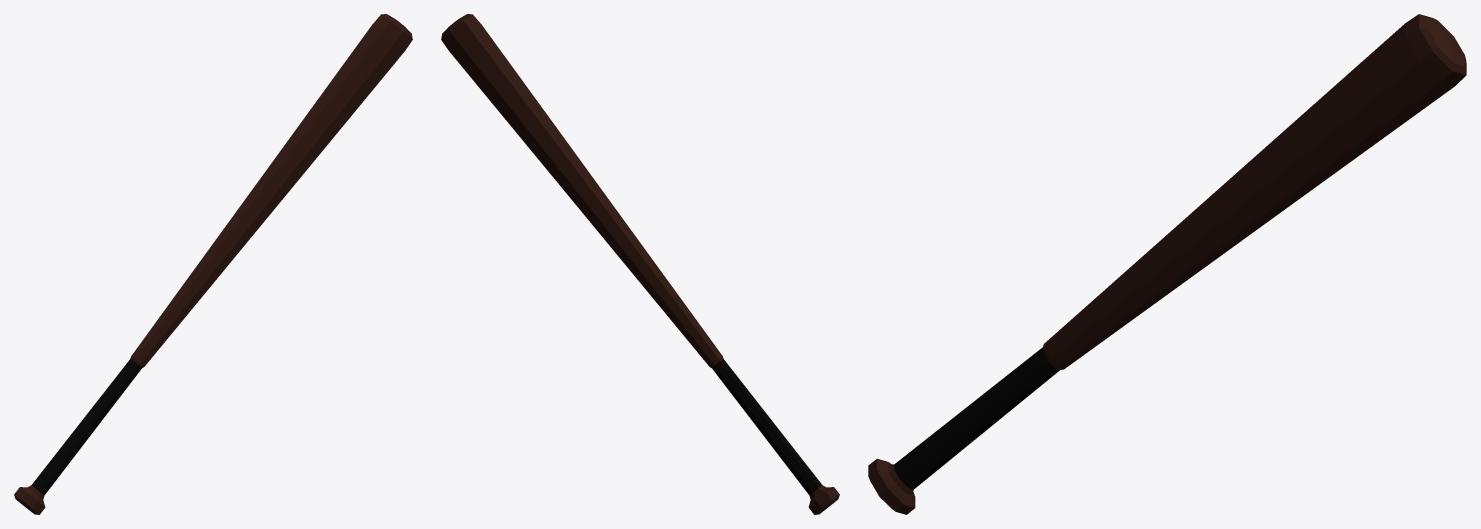
Rendered from bat.obj.
3 views of the same model, side by side, from view 1: azimuth 30°, elevation 25°; view 2: azimuth 150°, elevation 25°; view 3: azimuth 330°, elevation 25° (orthographic). The views are drawn at different scales.
Parts seen in each view (by area): view 1: BaseBall_Bat_01_bat; view 2: BaseBall_Bat_01_bat; view 3: BaseBall_Bat_01_bat.
Boxes of the visible parts, box(x1,y1,x2,y2) form: BaseBall_Bat_01_bat: box(14, 14, 412, 514); BaseBall_Bat_01_bat: box(441, 14, 839, 514); BaseBall_Bat_01_bat: box(868, 14, 1466, 514).
Size of the model in its own units: 134 by 134 by 7.79.
